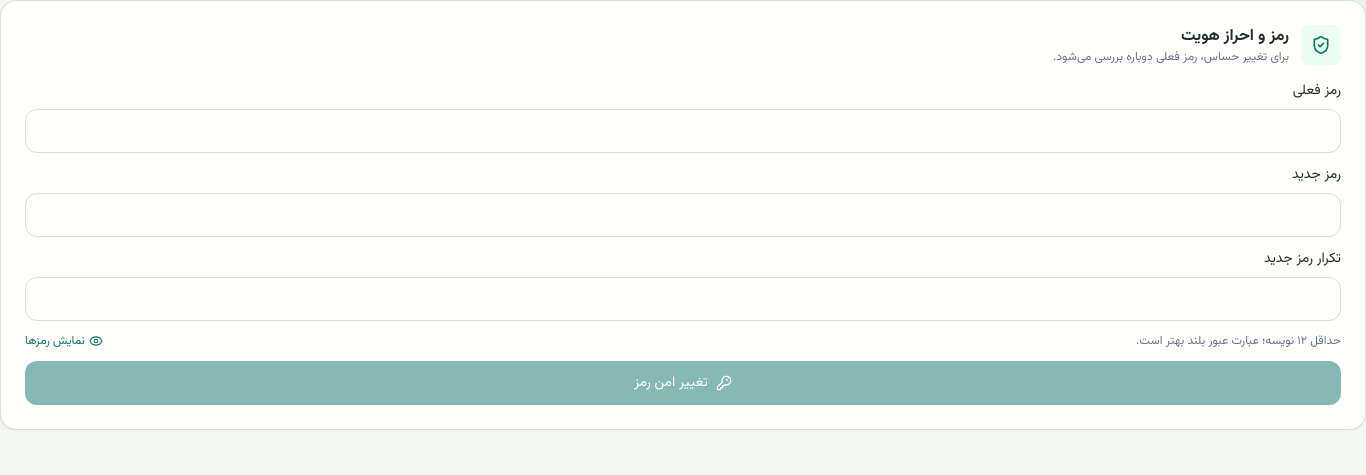
it: system and security controls › requires the current password, 12 characters, and matching confirmation
The width and height of the screenshot is (1366, 475).
Expected: the button "تغییر امن رمز" is disabled, [25, 361, 1341, 405]
Type "current-password" into the password field labelled "رمز فعلی" at (683, 131), box [25, 109, 1341, 153]
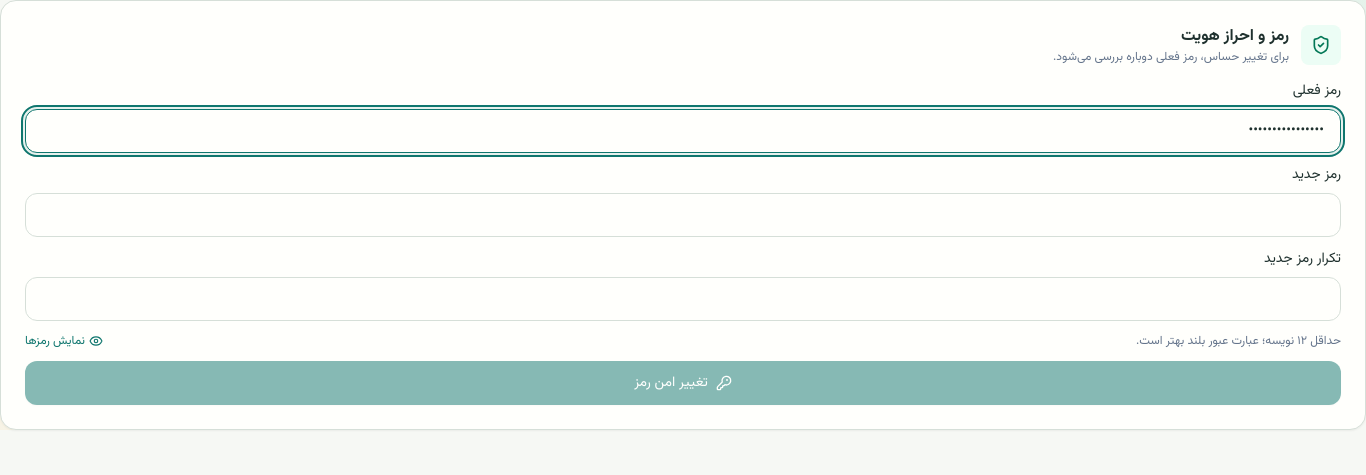
Type "long-password-123" into the password field labelled "رمز جدید" at (683, 215), box [25, 193, 1341, 237]
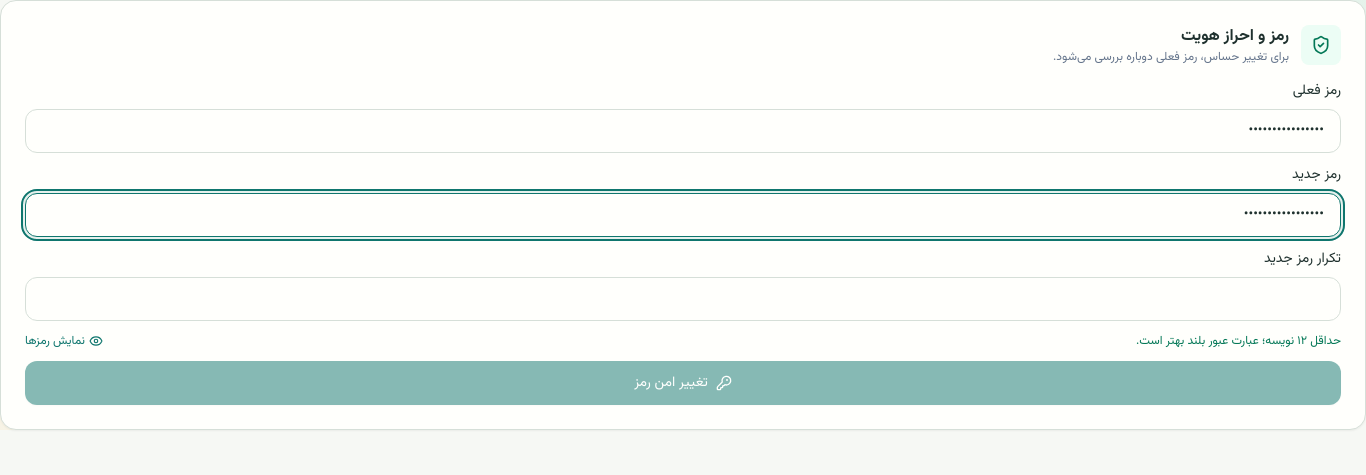
Type "different-password" into the password field labelled "تکرار رمز جدید" at (683, 299), box [25, 277, 1341, 321]
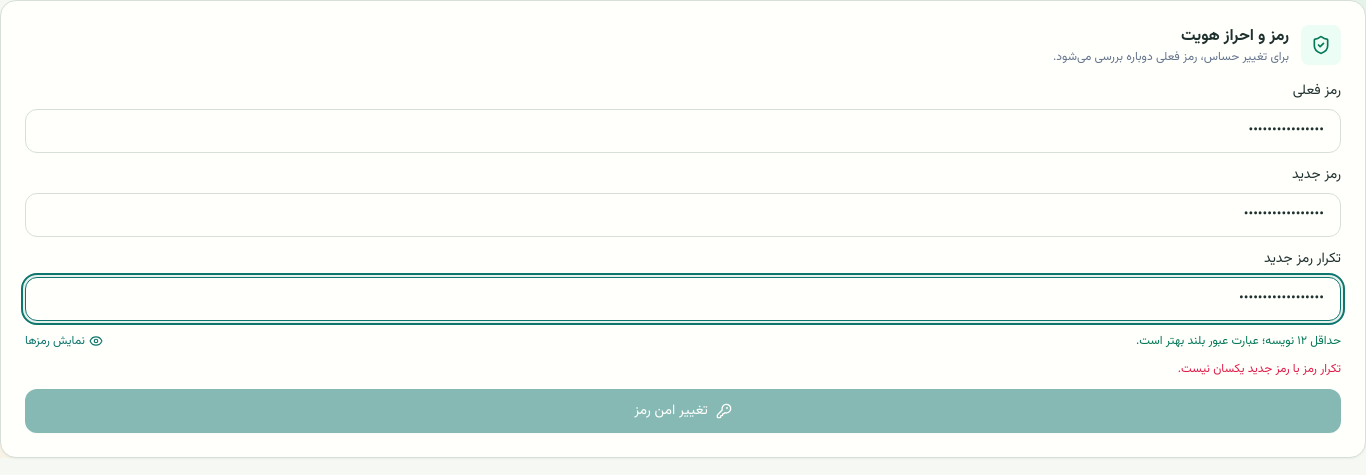
Expected: the button "تغییر امن رمز" is disabled, [25, 389, 1341, 433]
Type "long-password-123" into the password field labelled "تکرار رمز جدید" at (683, 299), box [25, 277, 1341, 321]
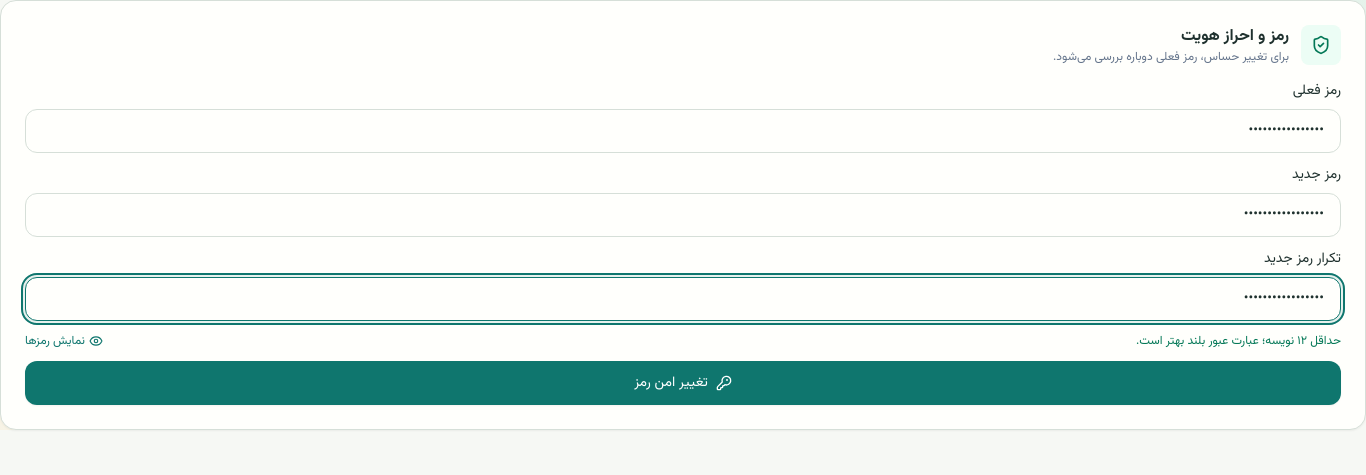
Expected: the button "تغییر امن رمز" is enabled, [25, 361, 1341, 405]
